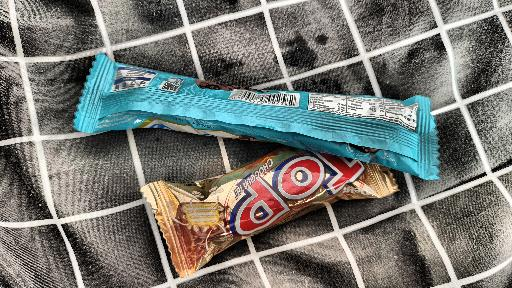dilan: (80, 54, 443, 179)
top: (135, 177, 415, 280)
